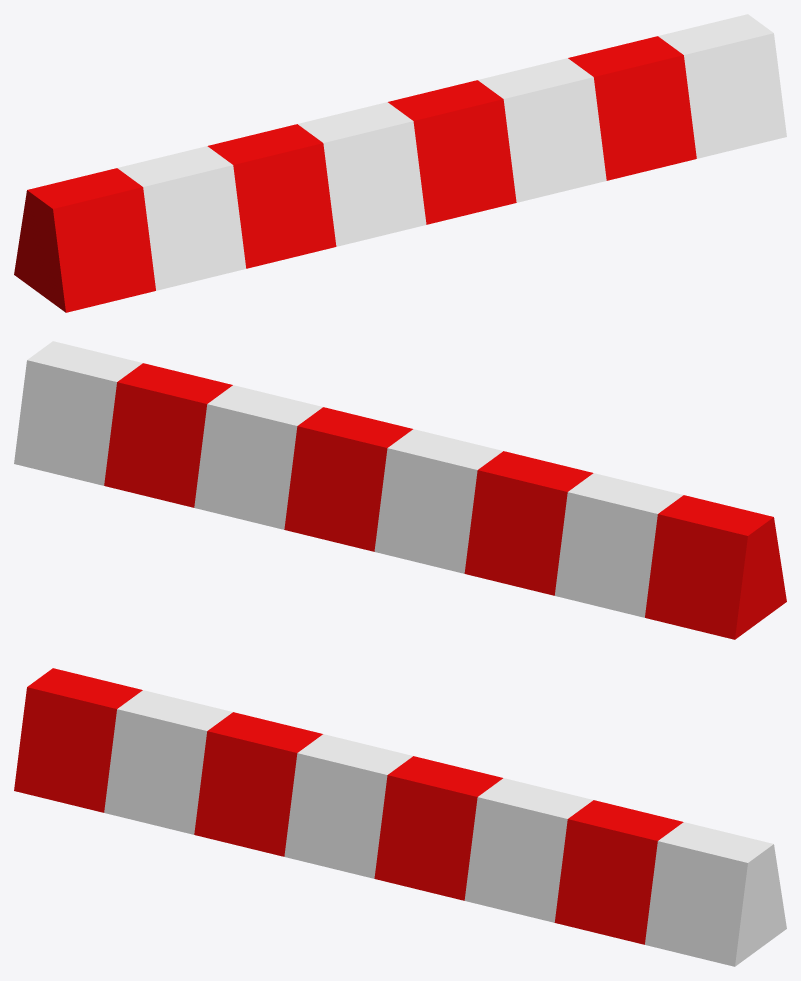
Rendered from Barrier08RedWhite.fbx.
3 renders of one model, top to bottom at view 1: azimuth 30°, elevation 25°; view 2: azimuth 150°, elevation 25°; view 3: azimuth 330°, elevation 25°, orthographic.
Parts seen in each view (by area): view 1: Barrier08RedWhite; view 2: Barrier08RedWhite; view 3: Barrier08RedWhite.
Boxes of the visible parts, x1=… form: Barrier08RedWhite: x1=14, y1=14, x2=786, y2=312; Barrier08RedWhite: x1=14, y1=341, x2=786, y2=639; Barrier08RedWhite: x1=14, y1=668, x2=786, y2=966.
Size of the model in its own units: 16 by 2 by 2.
